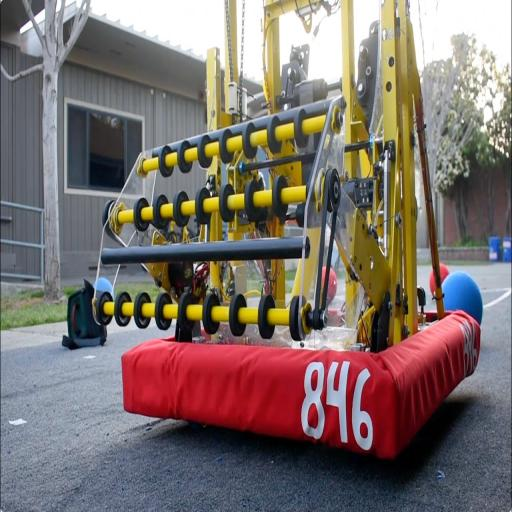robot: (92, 4, 485, 470)
